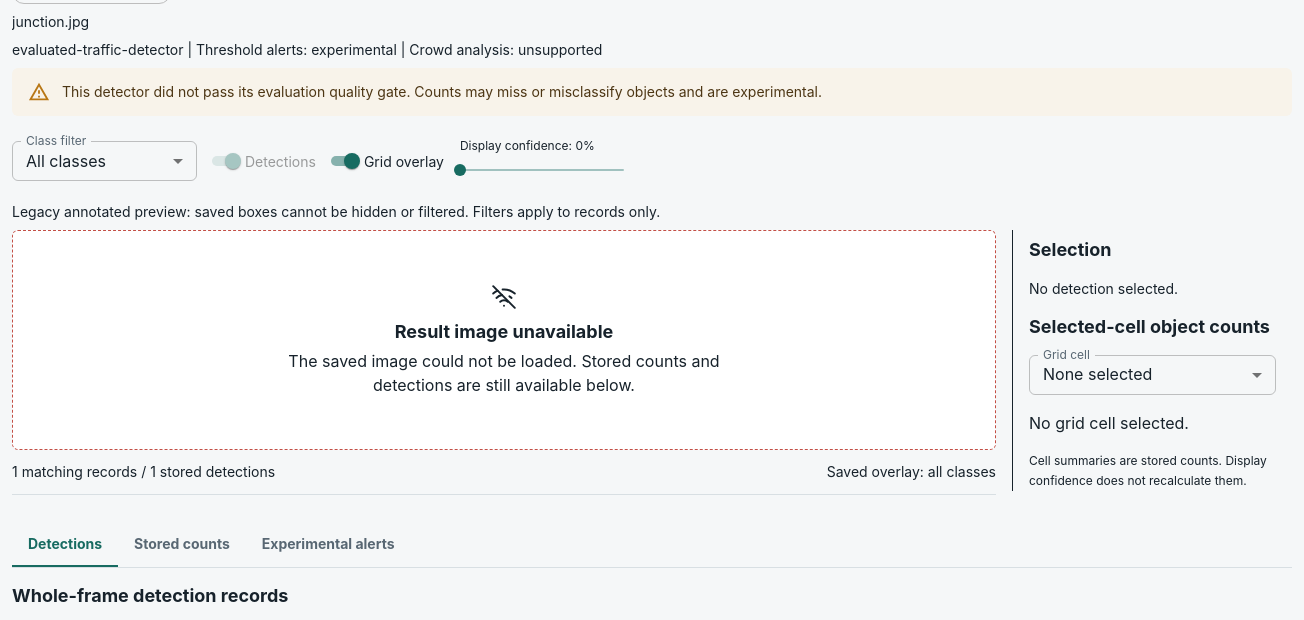
Test: ResultsPage › keeps stored counts visible when the image cannot be loaded
The image size is (1304, 620).
Expected: the heading "Result image unavailable" is shown, [395,321,613,342]
Click the tab "Stored counts".
click(182, 543)  # box [118,519,246,567]
(page scrolled)
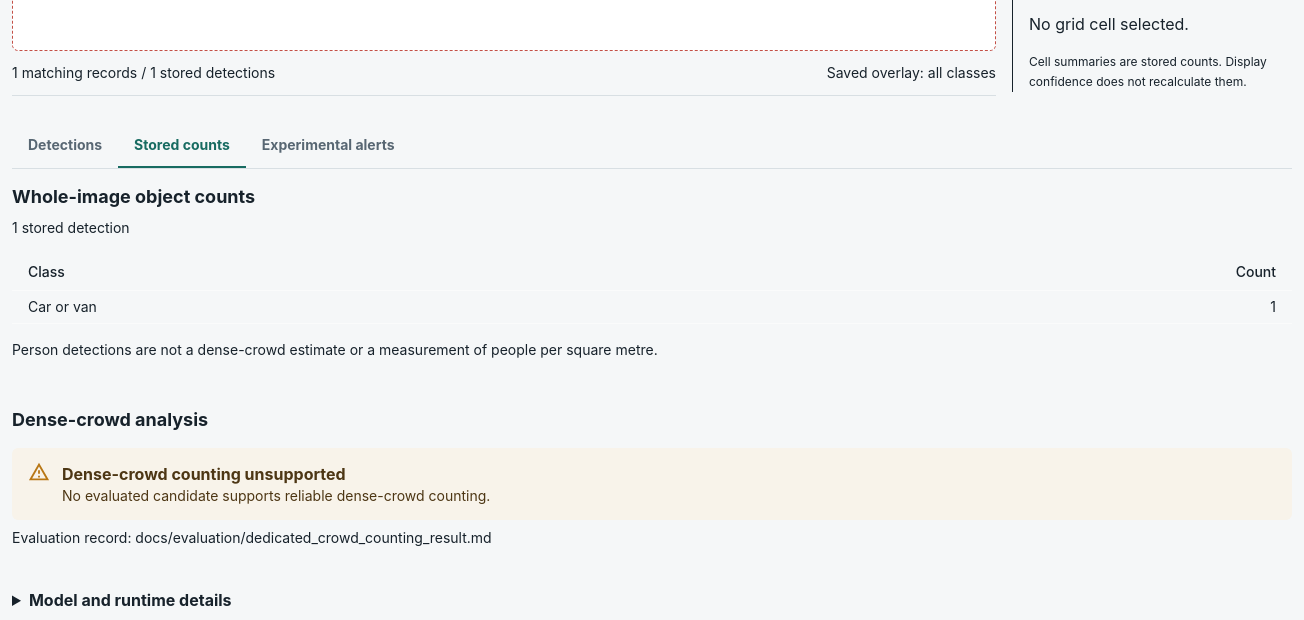
Expected: the table named "Whole-image object counts" is shown, [12,254,1292,324]
